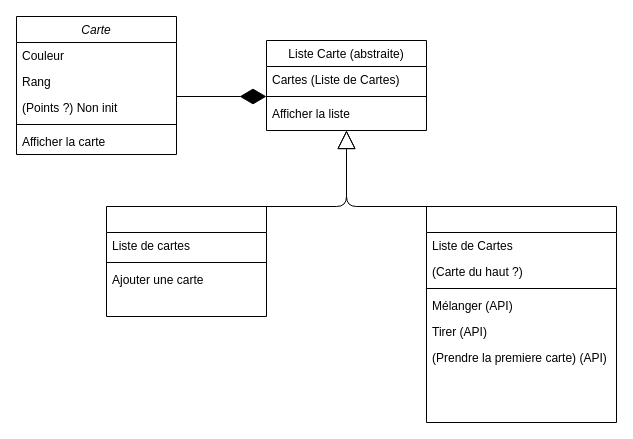
Image size: 633x439. Some labels were removed from this diagram. Each missing label, with the box of its shape:
Main: (106, 206, 266, 316)
Pack de carte: (426, 206, 616, 422)
